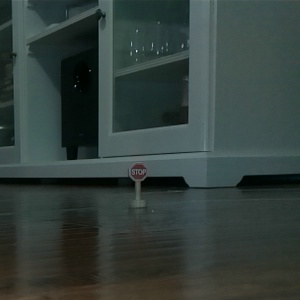stop sign: (127, 160, 149, 209)
